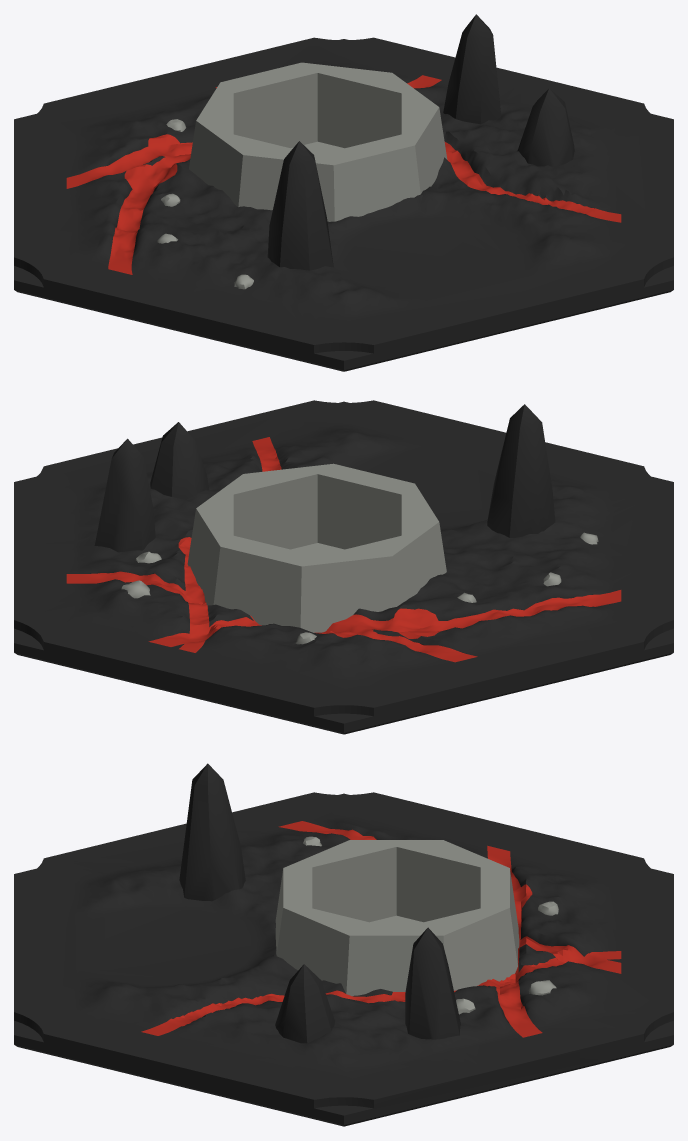
Rendered from turm_tor_1.glb.
3 renders of one model, top to bottom at view 1: azimuth 30°, elevation 25°; view 2: azimuth 150°, elevation 25°; view 3: azimuth 270°, elevation 25°, orthographic.
Parts seen in each view (by area): view 1: turm_tor_1; view 2: turm_tor_1; view 3: turm_tor_1.
Boxes of the visible parts, left/top/right/bottom form: turm_tor_1: left=14, top=14, right=673, bottom=371; turm_tor_1: left=14, top=400, right=673, bottom=734; turm_tor_1: left=14, top=763, right=673, bottom=1126.
Size of the model in its own units: 65.24 by 14.07 by 56.5.
